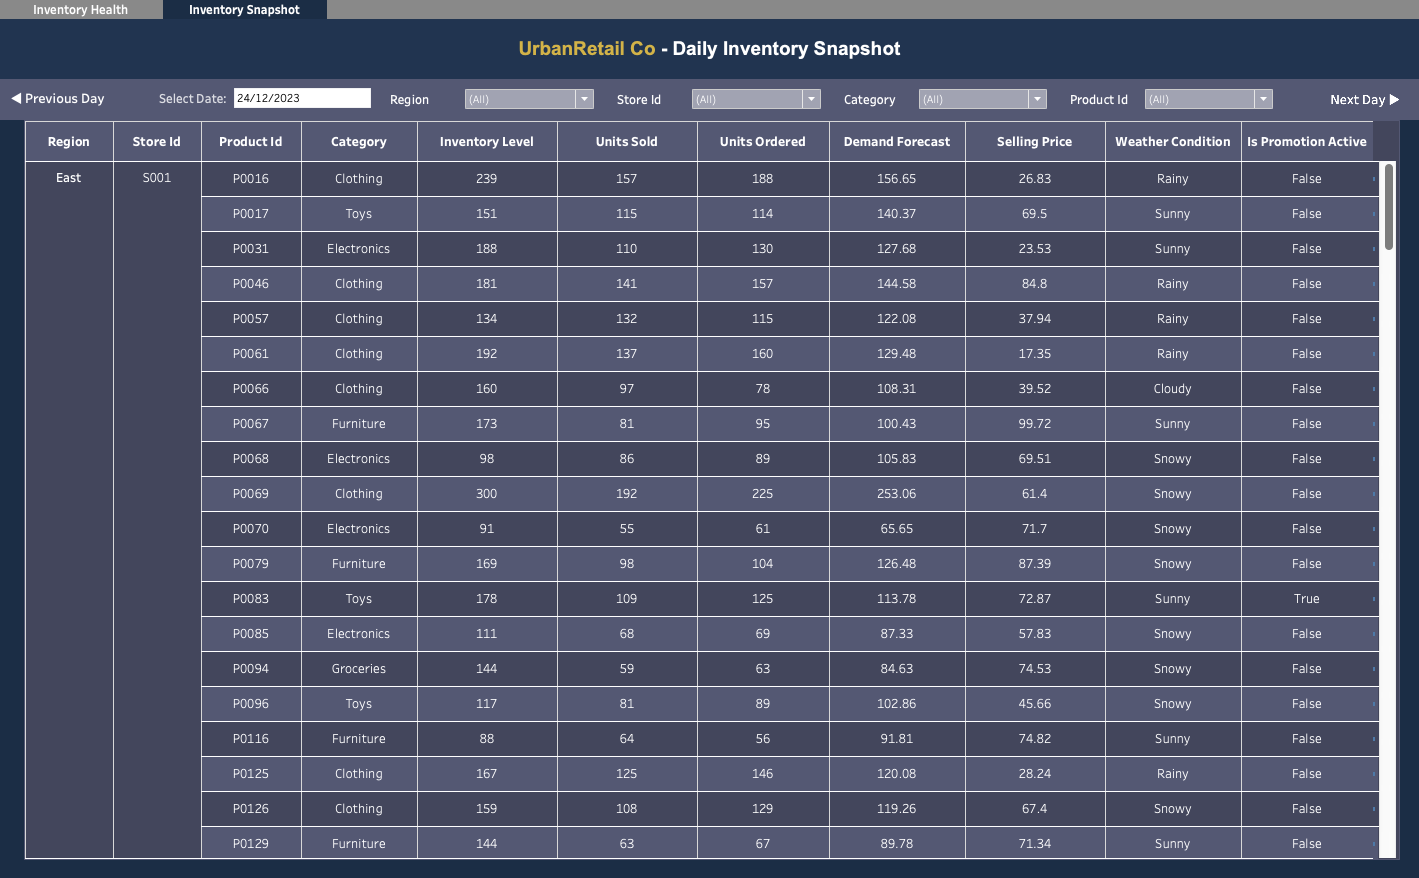

What the dashboard file says about the page in this screenshot:
{"tool":"tableau","page":{"name":"Dashboard 2 (Snapshot)","canvas":[1000,1000],"units":"permille","ordinal":1},"visuals":[{"type":"dashboard-object","box":[8.1,13,113.9,24.1]},{"type":"dashboard-object","box":[122,13,113.9,24.1]},{"type":"text","box":[8.1,37.1,987,72.3]},{"type":"worksheet","title":"Previous Day Button","mark":"Automatic","box":[8.1,109.4,84.7,49.4]},{"type":"blank","box":[92.9,109.4,22.2,49.4]},{"type":"blank","box":[902.1,109.4,22.2,49.4]},{"type":"worksheet","title":"Next Day Button","mark":"Automatic","box":[924.3,109.4,70.8,49.4]},{"type":"parameter","param":"[Parameters].[Parameter 1]","box":[115.3,109.6,157.6,49.4]},{"type":"filter","title":"Inventory Daily Snapshot","param":"[federated.1d204pm0ka8p7n1dgkums09uytbx].[none:region:nk]","box":[272.9,109.6,157.6,49.4]},{"type":"filter","title":"Inventory Daily Snapshot","param":"[federated.1d204pm0ka8p7n1dgkums09uytbx].[none:store_id:nk]","box":[430.6,109.6,157.6,49.4]},{"type":"filter","title":"Inventory Daily Snapshot","param":"[federated.1d204pm0ka8p7n1dgkums09uytbx].[none:category:nk]","box":[588.2,109.6,157,49.4]},{"type":"filter","title":"Inventory Daily Snapshot","param":"[federated.1d204pm0ka8p7n1dgkums09uytbx].[none:product_id:nk]","box":[745.1,109.6,156.9,49.4]},{"type":"worksheet","title":"Inventory Daily Snapshot","mark":"Bar","rows":["region","store_id","product_id","category","inventory_level","units_sold","units_ordered","demand_forecast","selling_price","weather_condition","is_promotion_active"],"cols":["Calculation_73957576426610688"],"box":[8.1,158.8,987,833.4]}]}

Visuals, with their boxes on the dashboard's canvas, which has no fixed pixel size, in thousandths of its width and height (x1, y1, x2, y2). These are canvas units, not pixel positions in the 1419x878 screenshot, which may show the page scaled, cropped or inside an application window:
dashboard-object: (left=8, top=13, right=122, bottom=37)
dashboard-object: (left=122, top=13, right=236, bottom=37)
text: (left=8, top=37, right=995, bottom=109)
"Previous Day Button" worksheet: (left=8, top=109, right=93, bottom=159)
blank: (left=93, top=109, right=115, bottom=159)
blank: (left=902, top=109, right=924, bottom=159)
"Next Day Button" worksheet: (left=924, top=109, right=995, bottom=159)
parameter: (left=115, top=110, right=273, bottom=159)
"Inventory Daily Snapshot" filter: (left=273, top=110, right=430, bottom=159)
"Inventory Daily Snapshot" filter: (left=431, top=110, right=588, bottom=159)
"Inventory Daily Snapshot" filter: (left=588, top=110, right=745, bottom=159)
"Inventory Daily Snapshot" filter: (left=745, top=110, right=902, bottom=159)
"Inventory Daily Snapshot" worksheet (Bar marks): (left=8, top=159, right=995, bottom=992)
